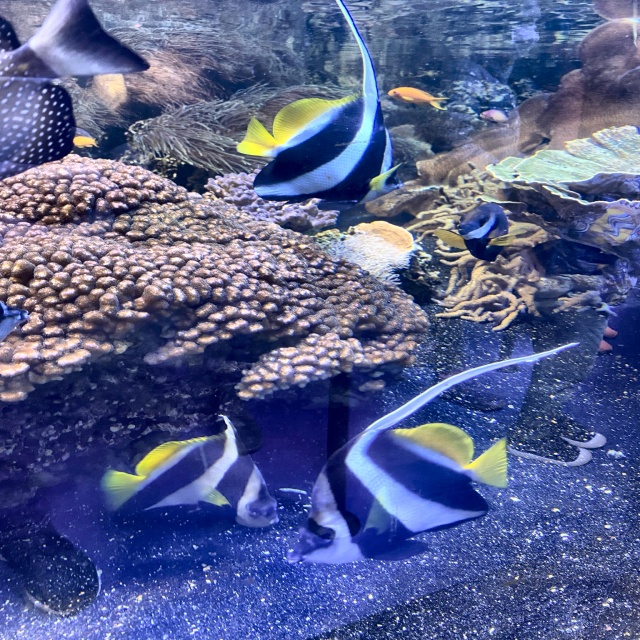fish: (288, 422, 507, 566), (0, 0, 149, 180), (236, 94, 403, 211), (103, 435, 277, 528), (435, 202, 522, 261), (386, 88, 450, 111), (478, 110, 509, 124), (74, 136, 97, 148)
